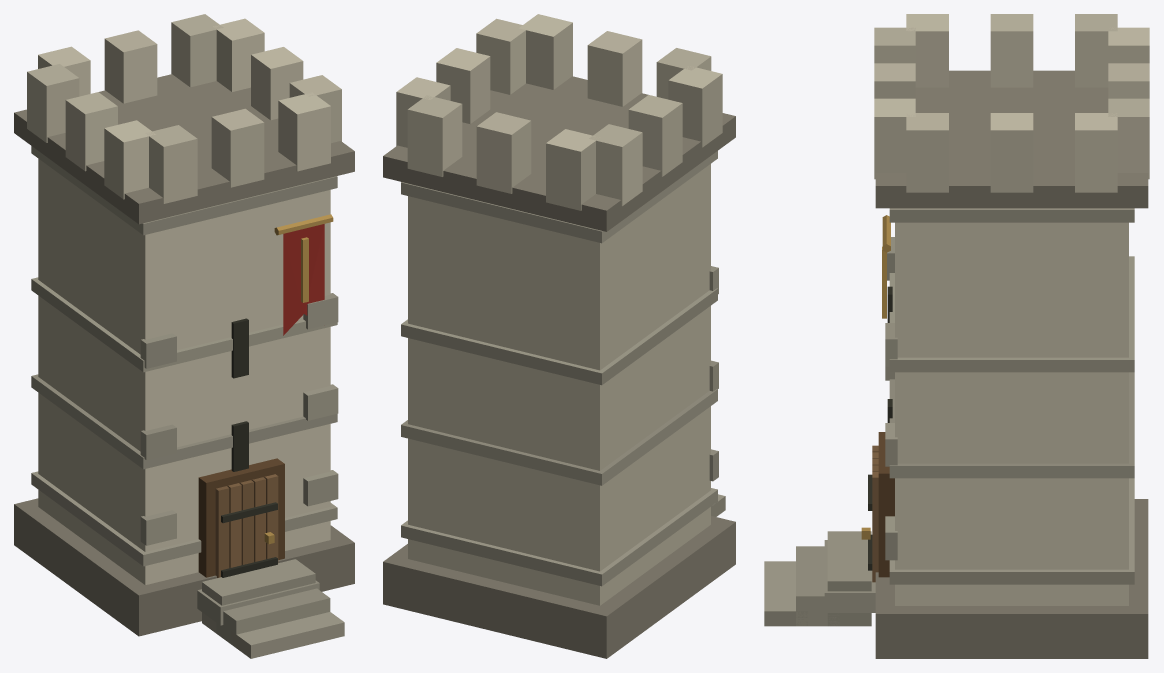
File: watchtower.glb
3 views of the same model, side by side, from view 1: azimuth 30°, elevation 25°; view 2: azimuth 150°, elevation 25°; view 3: azimuth 270°, elevation 25° (orthographic). The views are drawn at different scales.
Visible parts, largest first — view 1: watchtower; view 2: watchtower; view 3: watchtower.
Boxes of the visible parts, left/top/right/bottom form: watchtower: left=14, top=14, right=354, bottom=658; watchtower: left=383, top=14, right=735, bottom=658; watchtower: left=764, top=14, right=1149, bottom=658.
Size of the model in its own units: 2 by 4.24 by 2.8.
